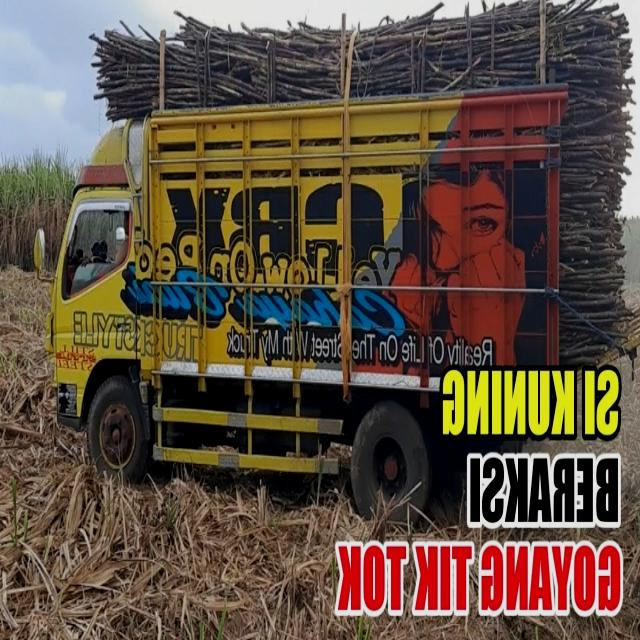truck: (32, 86, 566, 513)
